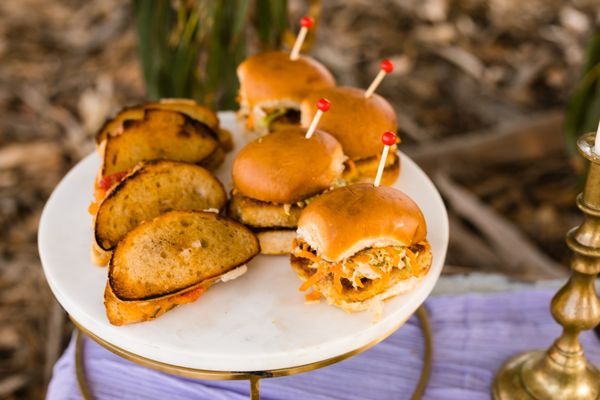soup: (289, 181, 432, 314), (102, 210, 261, 326)
